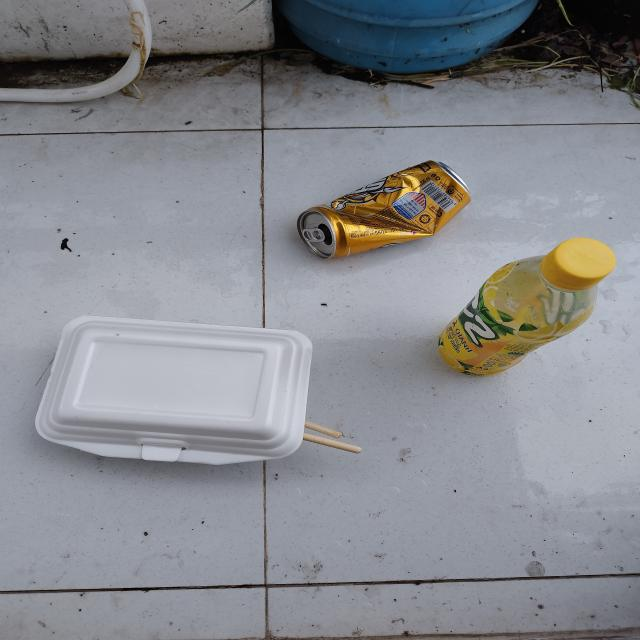bottle: (435, 238, 618, 376)
can: (296, 160, 472, 259)
foam box: (36, 312, 315, 466)
